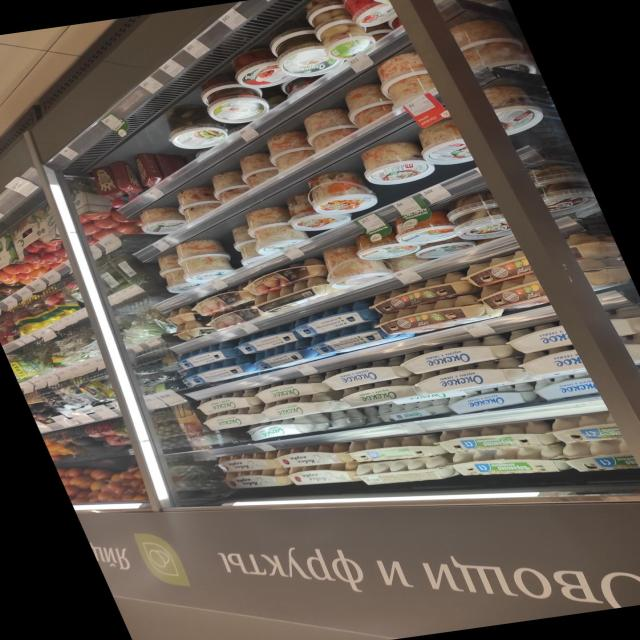organic waste: (448, 439, 578, 487), (374, 293, 504, 338), (359, 273, 487, 315), (436, 418, 562, 459), (398, 334, 518, 374), (190, 69, 274, 126), (259, 21, 342, 78), (410, 357, 531, 396), (302, 318, 413, 358), (236, 205, 316, 258), (353, 141, 440, 189), (276, 185, 357, 232), (301, 171, 381, 218), (154, 105, 234, 152), (342, 432, 446, 468), (316, 243, 393, 290), (317, 356, 417, 392), (288, 302, 381, 339), (171, 237, 243, 283), (444, 383, 540, 415), (336, 377, 428, 409), (260, 391, 352, 421), (244, 413, 332, 442), (390, 211, 462, 245), (352, 230, 424, 264), (446, 208, 518, 242), (250, 374, 331, 404), (180, 357, 261, 387), (273, 442, 352, 472), (250, 339, 322, 371), (169, 340, 245, 370), (232, 325, 308, 355), (287, 460, 362, 490), (220, 466, 292, 494), (198, 406, 272, 432), (532, 374, 598, 402), (191, 390, 264, 415), (212, 450, 282, 476), (87, 163, 129, 206), (108, 158, 150, 201)
